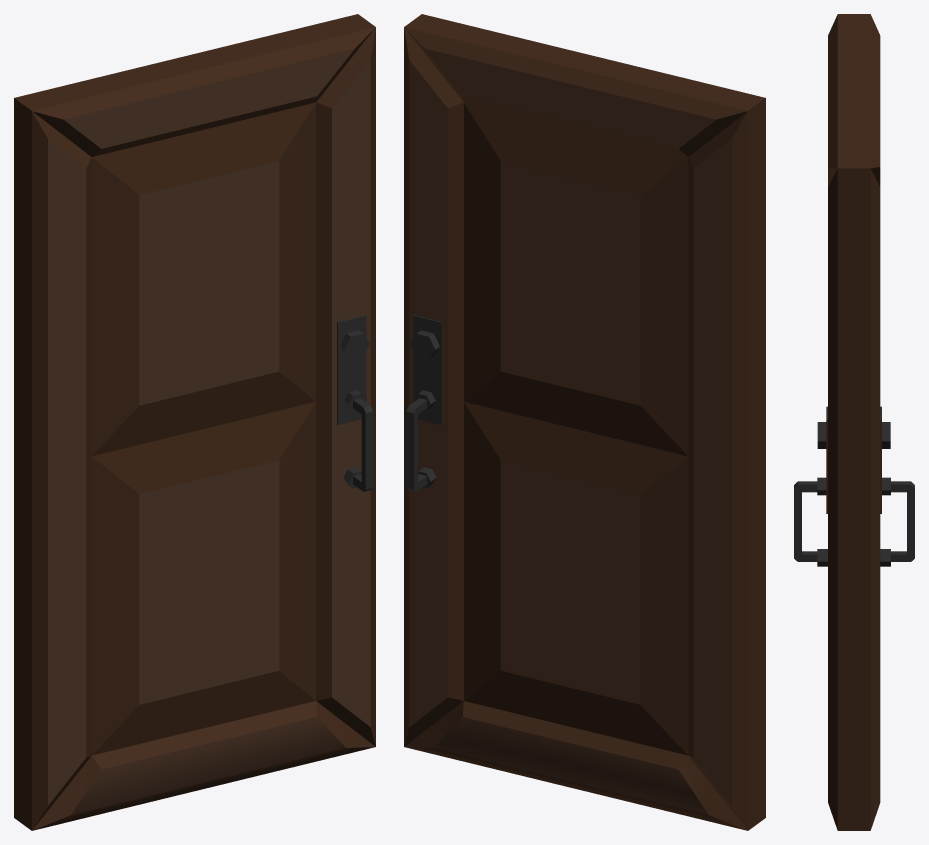
3 renders of one model, left to right at view 1: azimuth 30°, elevation 25°; view 2: azimuth 150°, elevation 25°; view 3: azimuth 270°, elevation 25°, orthographic. The views are drawn at different scales.
Visible parts, largest first — view 1: node-0; view 2: node-0; view 3: node-0.
Boxes of the visible parts, x1,y1,x2,y2 form: node-0: (14, 14, 375, 830); node-0: (404, 14, 765, 830); node-0: (794, 14, 914, 830).
Bounding box in the file's own units: 162 × 325 × 53.79.
1 material, 1 textured.
